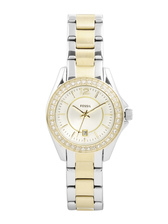watch: (44, 15, 137, 215)
